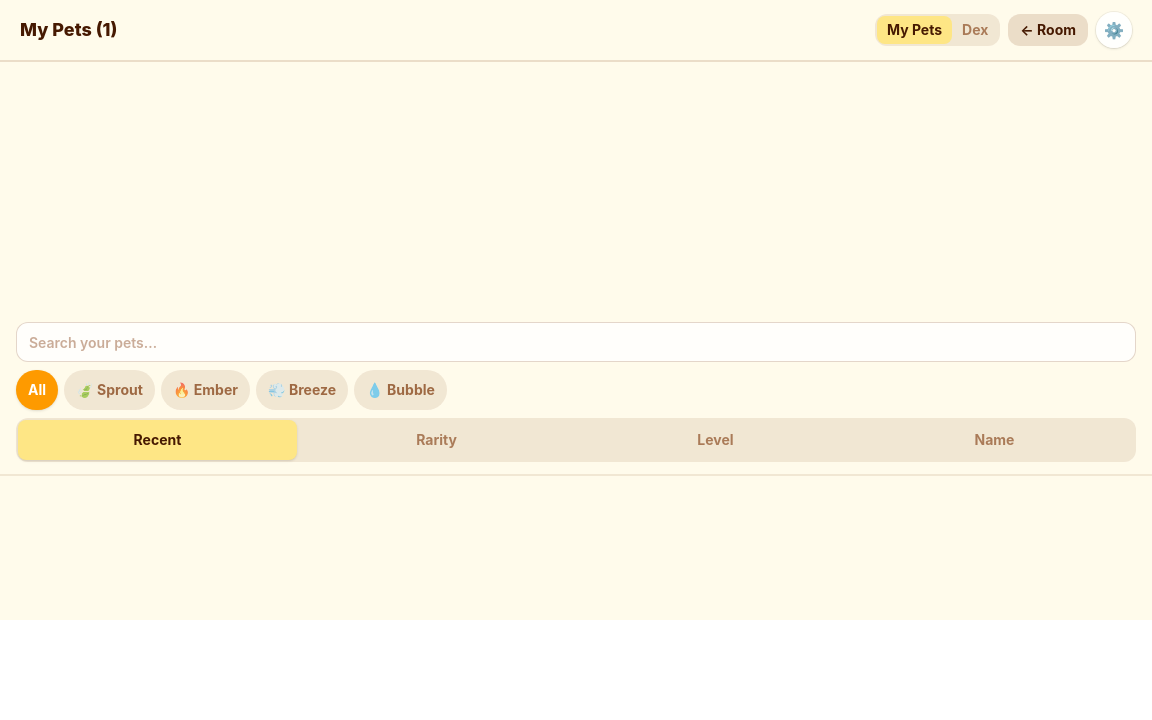
Test case: Collection dex tab › switches to the Dex tab and shows the caught count
The image size is (1152, 720).
Click the tab "Dex". click: (975, 30)
box: [952,16,998,44]
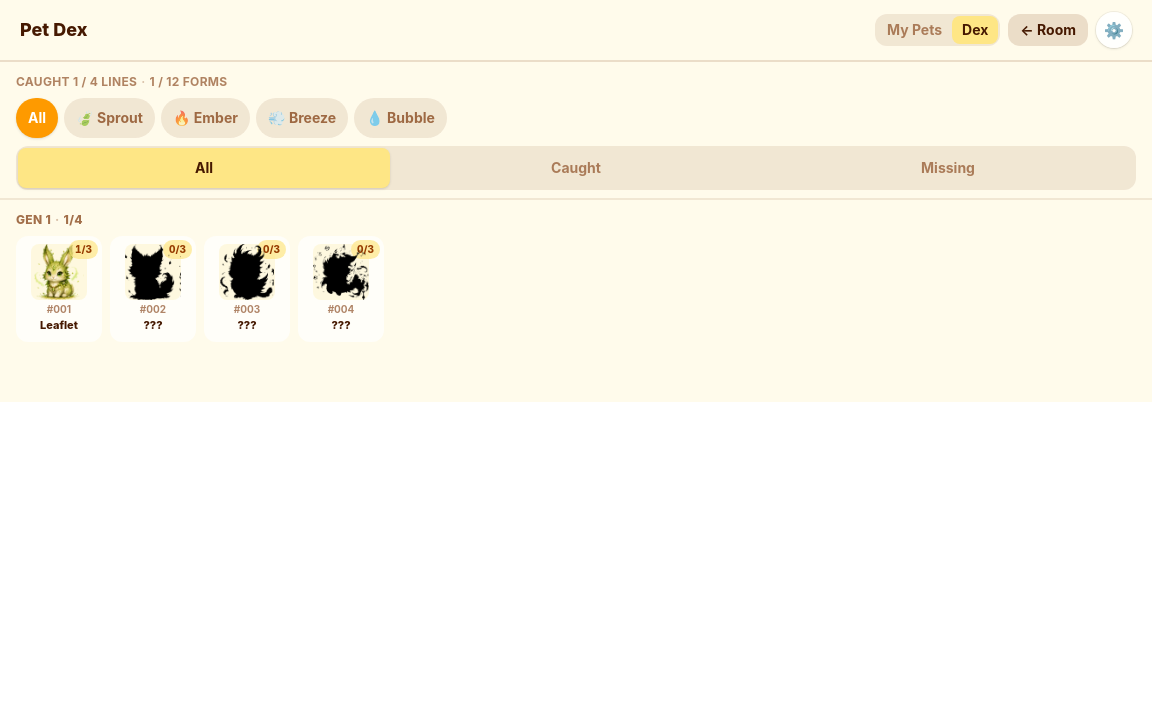
Check: the text "Caught 1 / 4 lines·1 / 12 forms" is shown, box [16,74,228,89]
